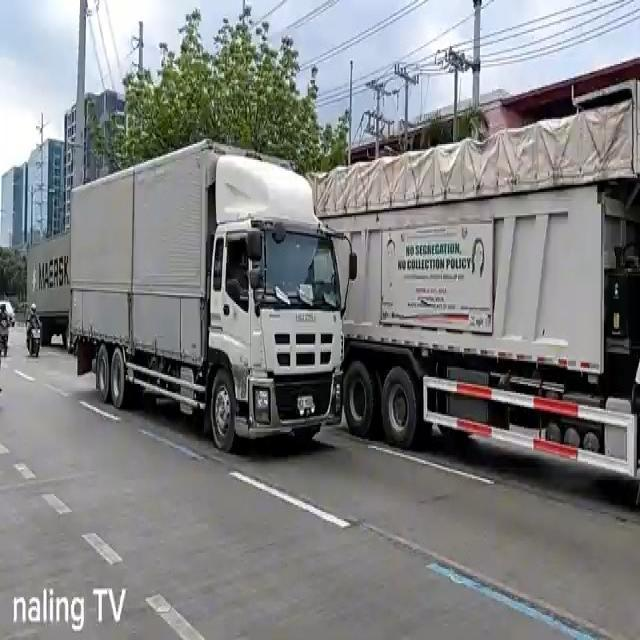motorcycle: (27, 298, 43, 358)
truck: (310, 106, 640, 488), (70, 130, 346, 458), (26, 231, 76, 356)
